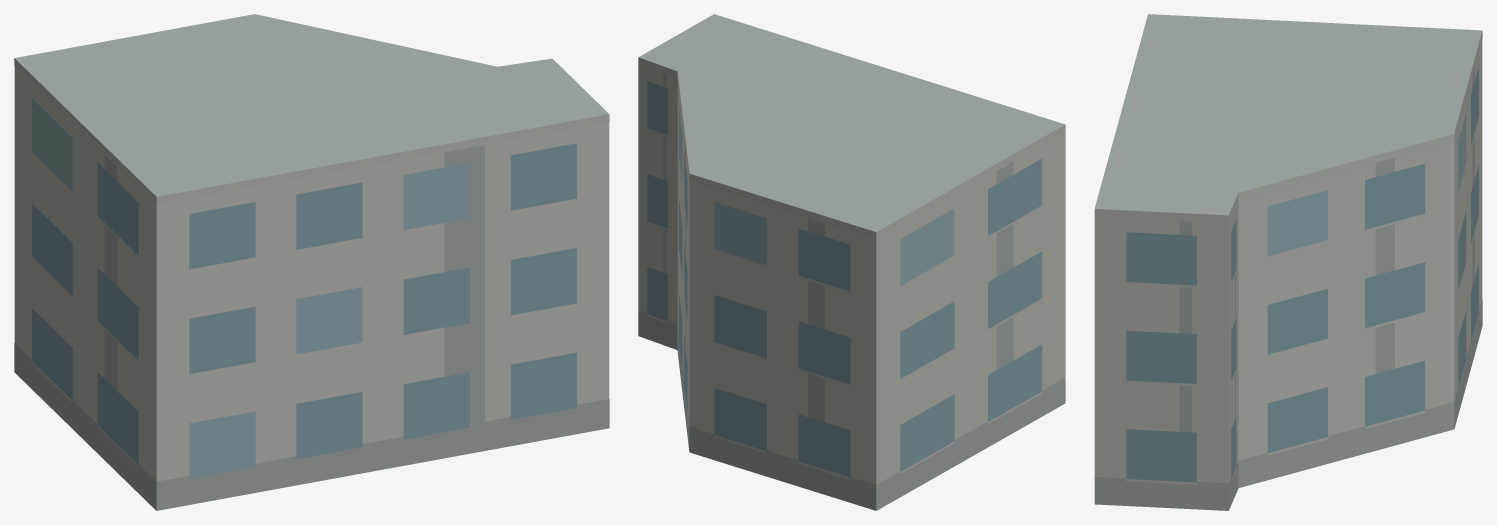
Rendered from residential-b9fd56db-9c03-4c79-bd9b-eb6ea726425f.glb.
3 renders of one model, left to right at view 1: azimuth 30°, elevation 25°; view 2: azimuth 150°, elevation 25°; view 3: azimuth 270°, elevation 25°, orthographic. The views are drawn at different scales.
Parts seen in each view (by area): view 1: residential-b9fd56db-9c03-4c79-bd9b-eb6ea726425f.tmp; view 2: residential-b9fd56db-9c03-4c79-bd9b-eb6ea726425f.tmp; view 3: residential-b9fd56db-9c03-4c79-bd9b-eb6ea726425f.tmp.
Boxes of the visible parts, x1,y1,x2,y2 form: residential-b9fd56db-9c03-4c79-bd9b-eb6ea726425f.tmp: (14, 14, 609, 510); residential-b9fd56db-9c03-4c79-bd9b-eb6ea726425f.tmp: (638, 14, 1065, 510); residential-b9fd56db-9c03-4c79-bd9b-eb6ea726425f.tmp: (1094, 14, 1482, 510).
Bounding box in the file's own units: 13.38 × 9.15 × 10.9.
